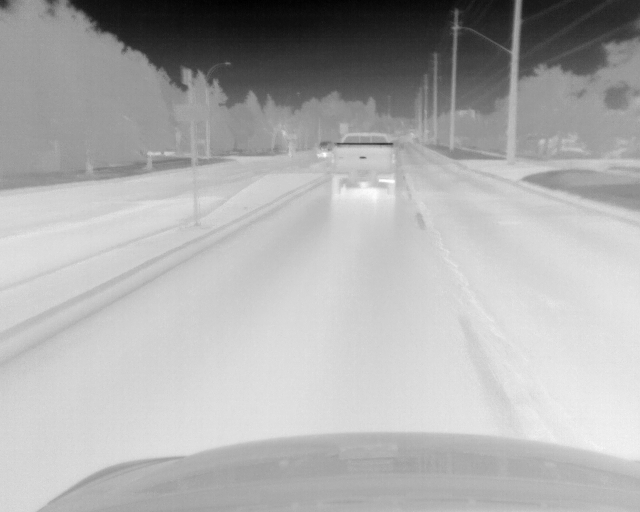car: (333, 132, 397, 202), (316, 140, 332, 160)
